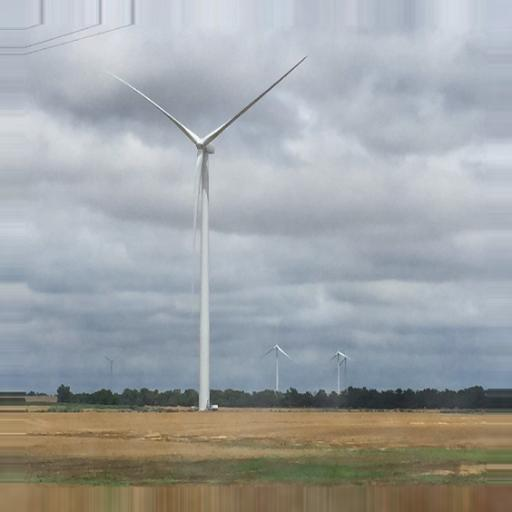wind turbine: (96, 55, 310, 397)
